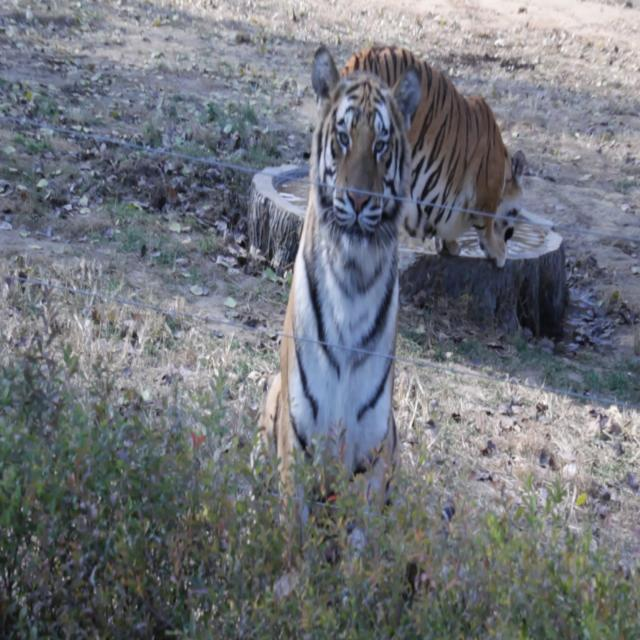Tiger: (258, 34, 424, 601), (361, 30, 522, 263)
